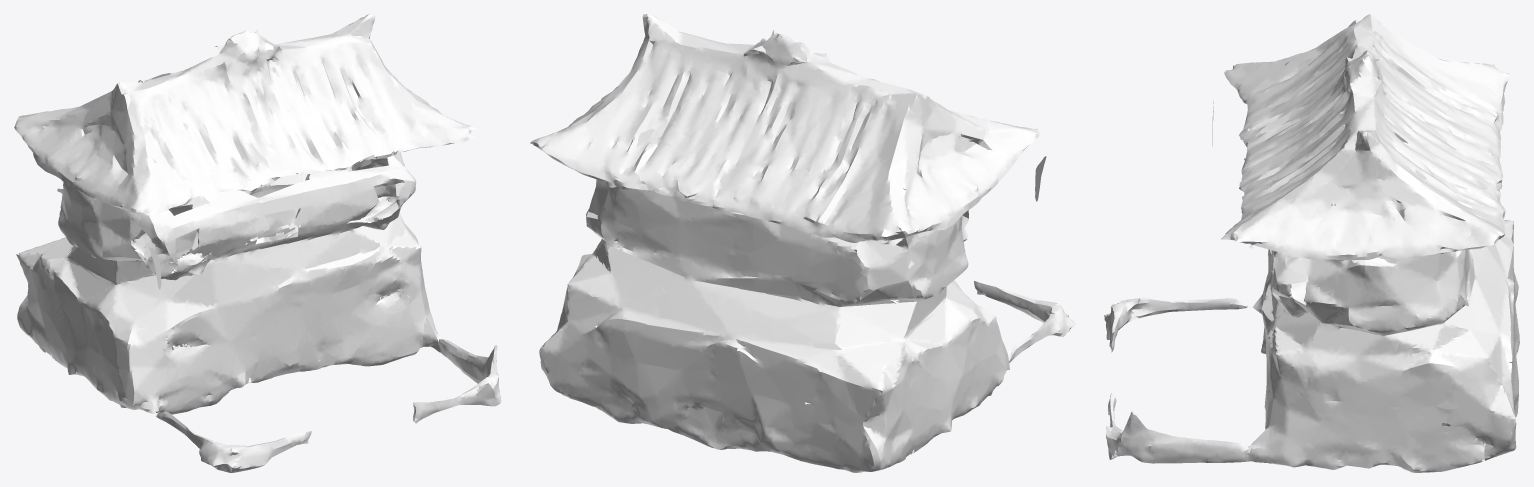
Rendered from house_timber_b.glb.
3 views of the same model, side by side, from view 1: azimuth 30°, elevation 25°; view 2: azimuth 150°, elevation 25°; view 3: azimuth 270°, elevation 25° (orthographic). The views are drawn at different scales.
Visible parts, largest first — view 1: output_unwrapped; view 2: output_unwrapped; view 3: output_unwrapped.
Part boxes in pixels (box(x1,y1,x2,y2)): output_unwrapped: box(14, 14, 501, 472); output_unwrapped: box(530, 14, 1075, 472); output_unwrapped: box(1104, 14, 1519, 472).
Size of the model in its own units: 7.9 by 7 by 7.64.
Materials: 1 (1 with a texture image).
